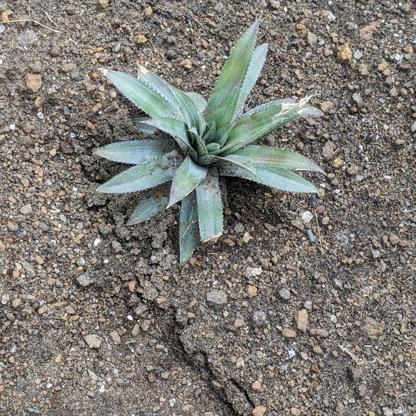pineapple: (91, 19, 326, 267)
